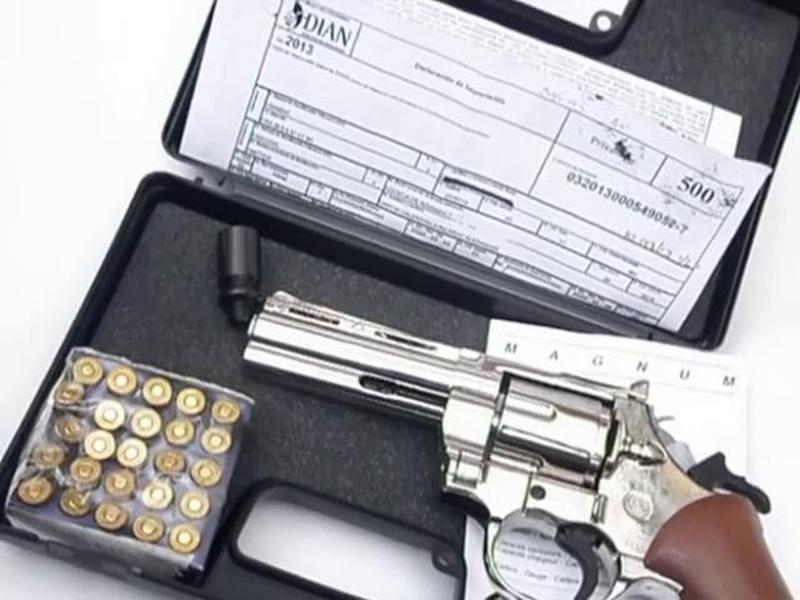Revolver: (161, 291, 765, 583)
